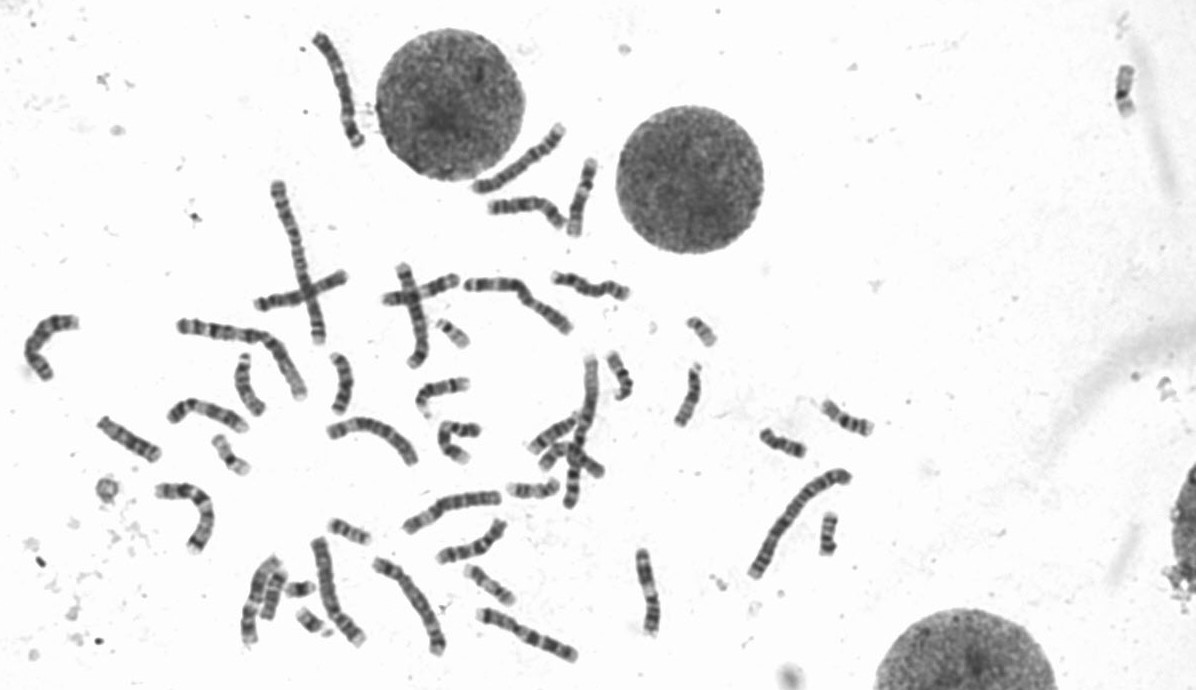chromosomes: (742, 466, 856, 589), (261, 179, 335, 353), (177, 315, 315, 407), (463, 121, 575, 208), (301, 31, 372, 162), (554, 352, 604, 515), (370, 556, 451, 651), (458, 275, 576, 339), (310, 532, 374, 649), (471, 602, 584, 666), (323, 410, 424, 475), (393, 484, 506, 540), (149, 477, 220, 564), (24, 303, 90, 388), (86, 411, 173, 474), (247, 267, 355, 316), (238, 546, 287, 652), (389, 262, 433, 373), (429, 515, 511, 568), (372, 269, 463, 314), (485, 194, 574, 239), (167, 392, 250, 438), (537, 438, 613, 484), (563, 154, 599, 251), (631, 544, 667, 638), (550, 268, 636, 305), (415, 373, 475, 424), (815, 393, 877, 442), (521, 409, 584, 457), (670, 357, 710, 431), (231, 352, 272, 423), (1104, 62, 1144, 131), (461, 563, 519, 610), (205, 429, 254, 481), (434, 419, 486, 466), (327, 349, 357, 419), (253, 565, 287, 626), (758, 423, 811, 462), (321, 513, 374, 551), (432, 315, 477, 357), (602, 346, 635, 403), (680, 314, 722, 349), (506, 476, 566, 500), (820, 506, 843, 559), (295, 605, 329, 639), (281, 579, 317, 602)
